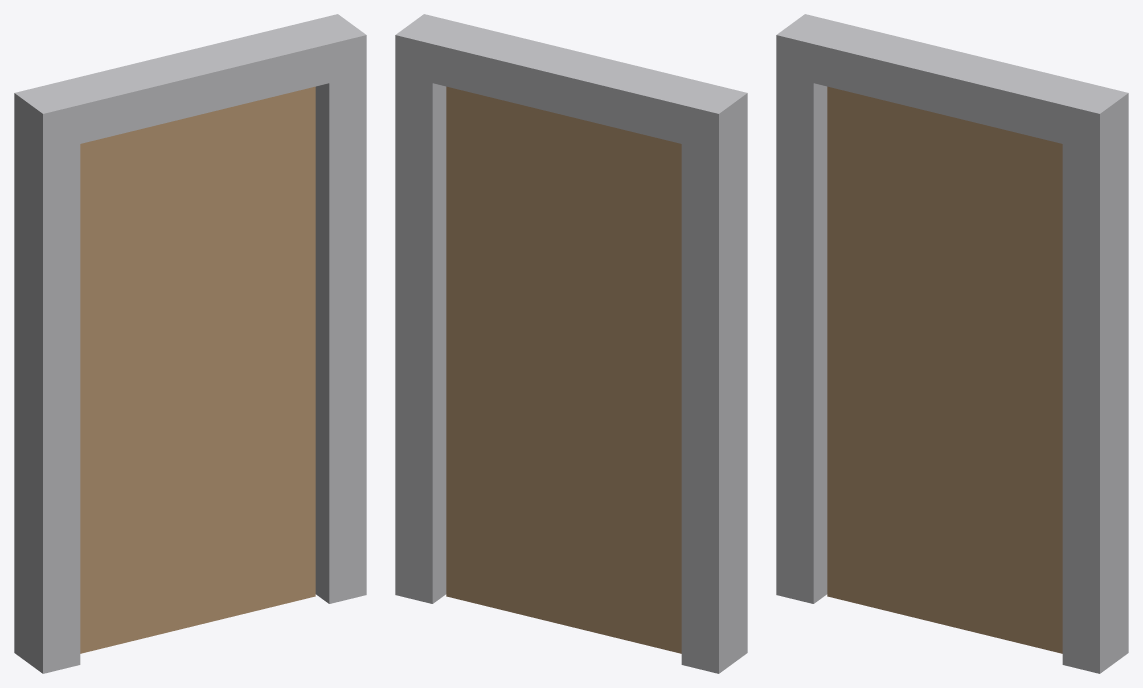
Rendered from test-door.glb.
3 views of the same model, side by side, from view 1: azimuth 30°, elevation 25°; view 2: azimuth 150°, elevation 25°; view 3: azimuth 330°, elevation 25° (orthographic).
Parts seen in each view (by area): view 1: Leaf, Frame; view 2: Leaf, Frame; view 3: Leaf, Frame.
Boxes of the visible parts, x1,y1,x2,y2 form: Leaf: (80,86,315,653); Frame: (14,14,366,673); Leaf: (446,86,681,653); Frame: (395,14,747,673); Leaf: (827,86,1062,653); Frame: (776,14,1128,673).
Size of the model in its own units: 1.3 by 2.15 by 0.2.
